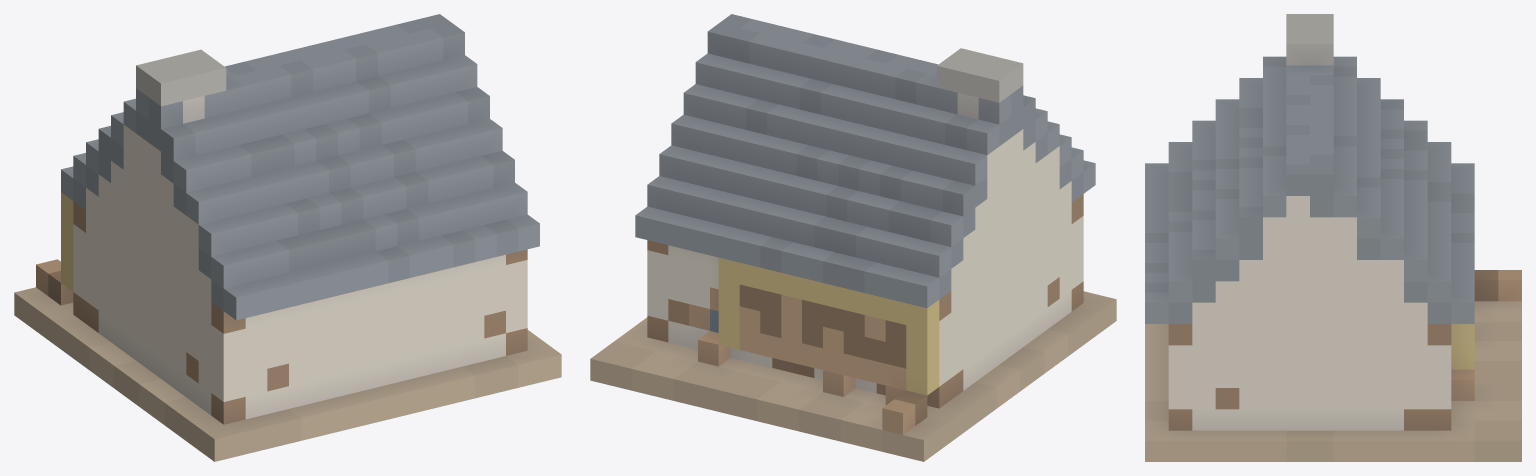
The model's file is goldsmith.lite.glb.
3 views of the same model, side by side, from view 1: azimuth 30°, elevation 25°; view 2: azimuth 150°, elevation 25°; view 3: azimuth 270°, elevation 25° (orthographic). The views are drawn at different scales.
Parts seen in each view (by area): view 1: goldsmith; view 2: goldsmith; view 3: goldsmith.
Boxes of the visible parts, left/top/right/bottom form: goldsmith: left=14, top=14, right=561, bottom=461; goldsmith: left=590, top=14, right=1116, bottom=461; goldsmith: left=1145, top=14, right=1521, bottom=461.
Size of the model in its own units: 4 by 3.5 by 4.
